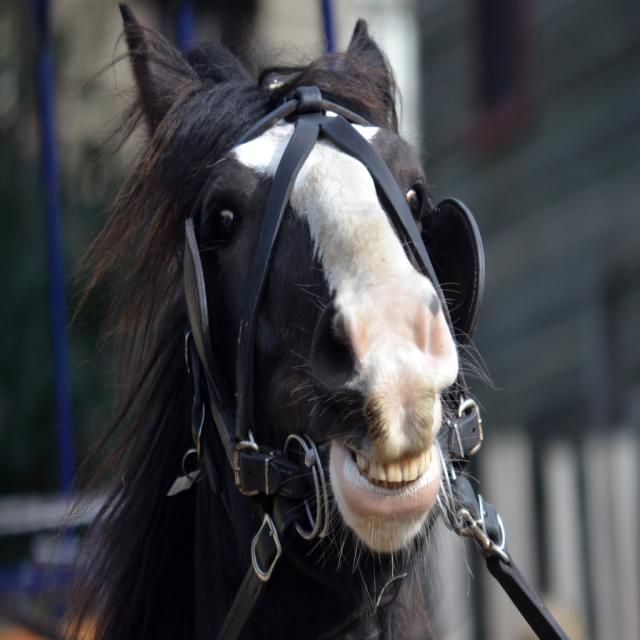Horse: (38, 0, 494, 639)
